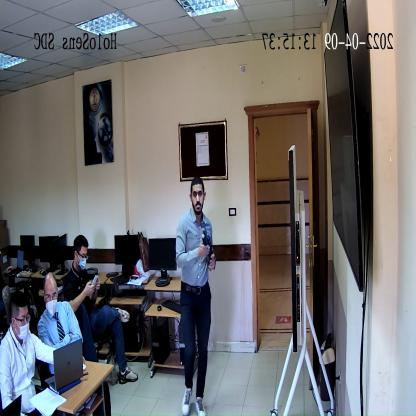handgun: (201, 232, 214, 263)
